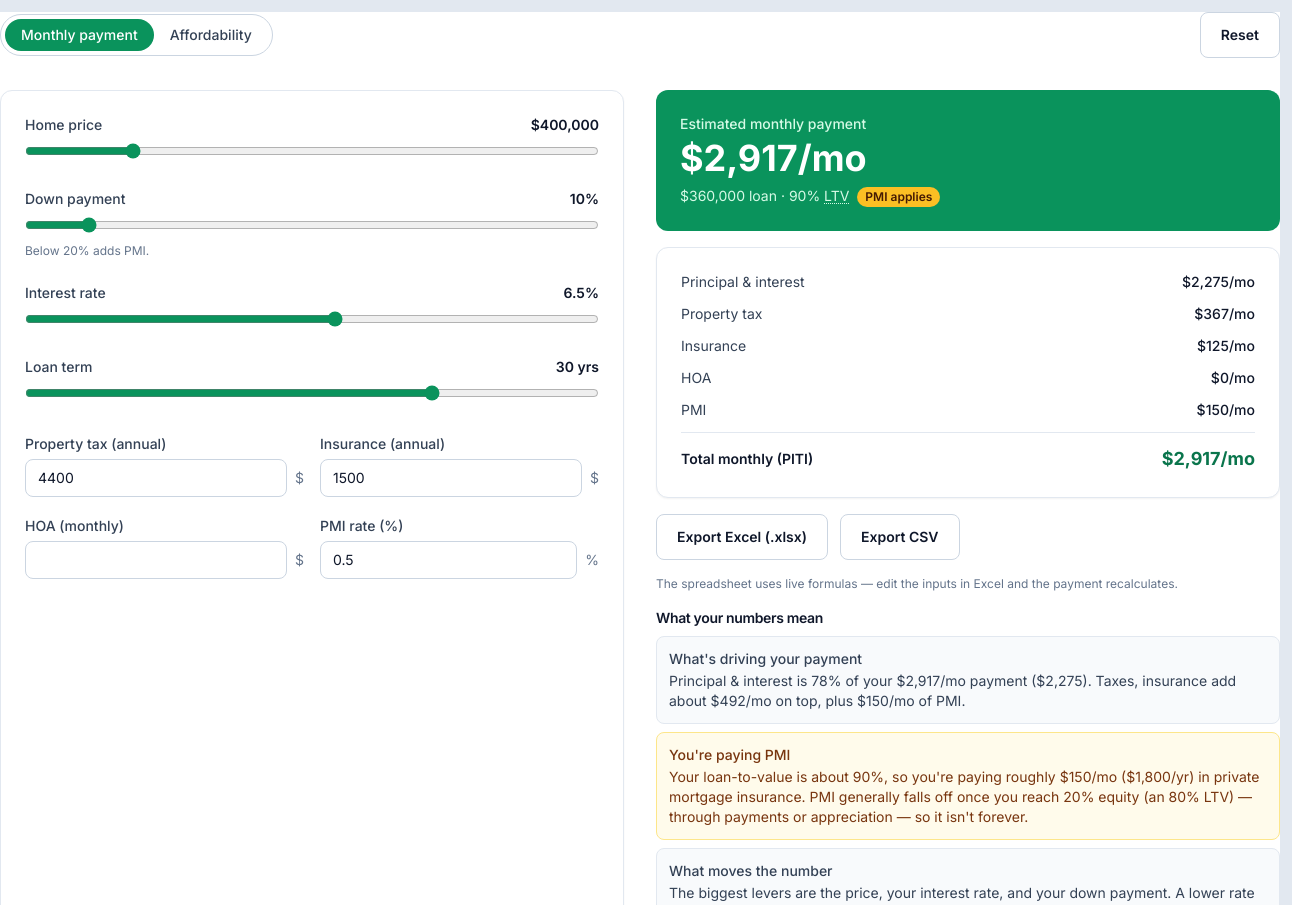
it: BudgetCalculator › switches to affordability mode and shows a max price + binding constraint
Click the tab "Affordability".
click(211, 35)  # box [154,19,268,51]
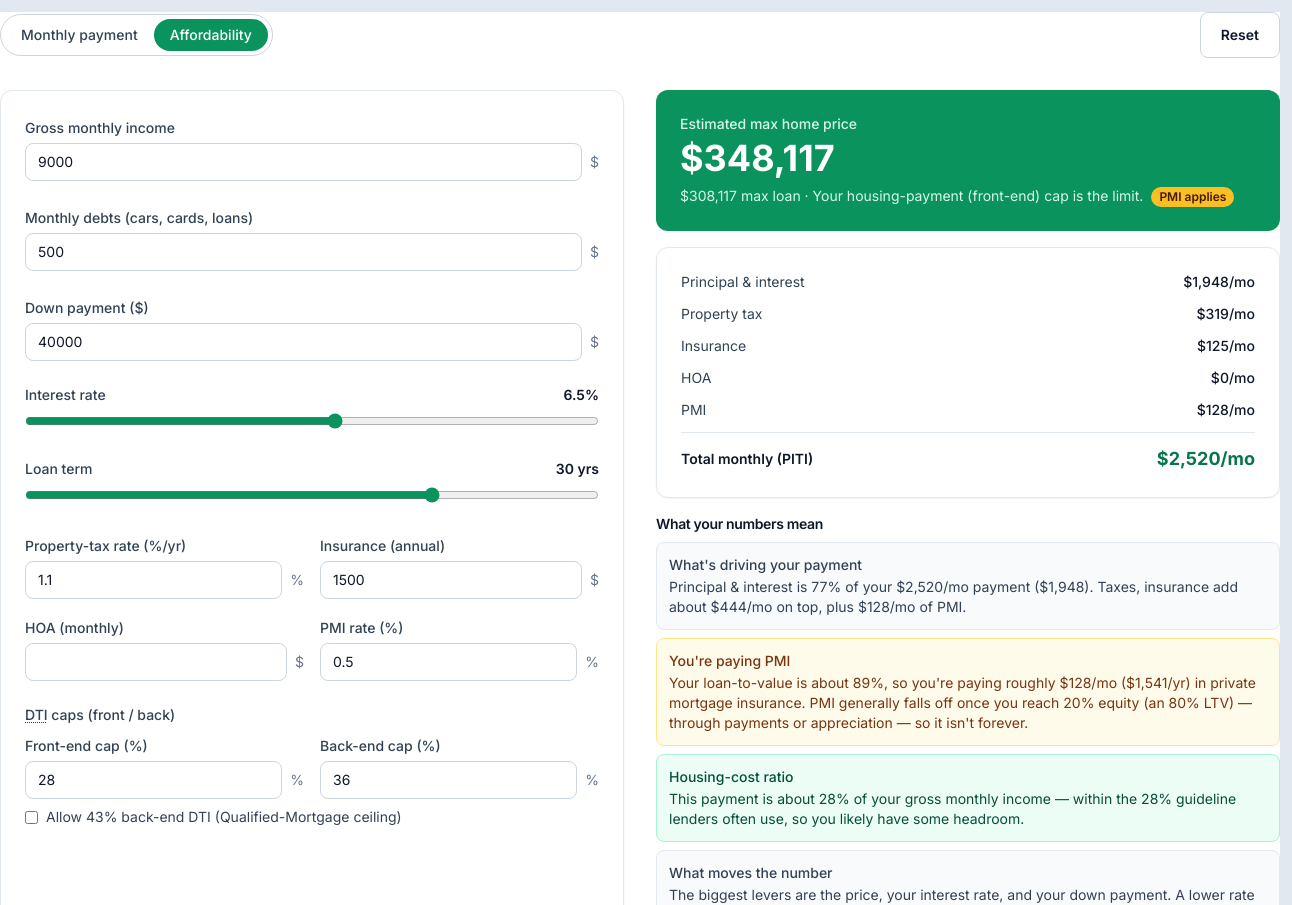
Expected: the text "$348,117" is shown, [680,136,835,180]
Expected: the text with test id "binding-constraint" shows "cap is the limit", [813,187,1143,204]
